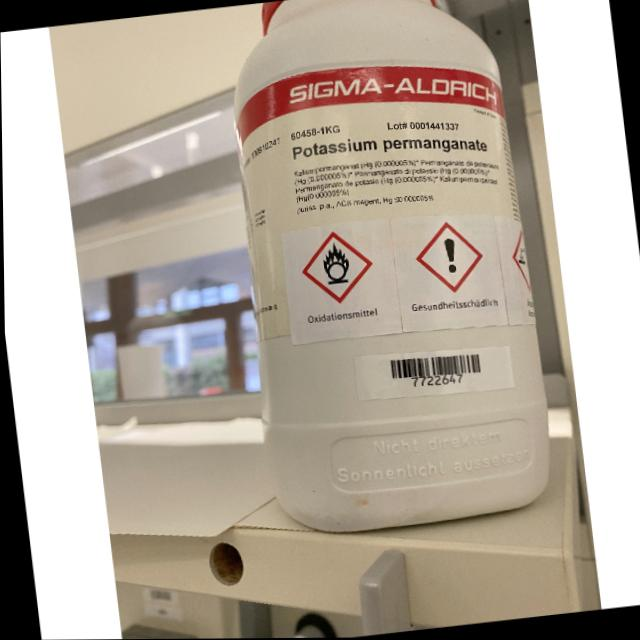corrosive: (505, 226, 529, 293)
health-ozone layer hazard: (410, 218, 485, 298)
oxidising: (296, 227, 377, 308)
